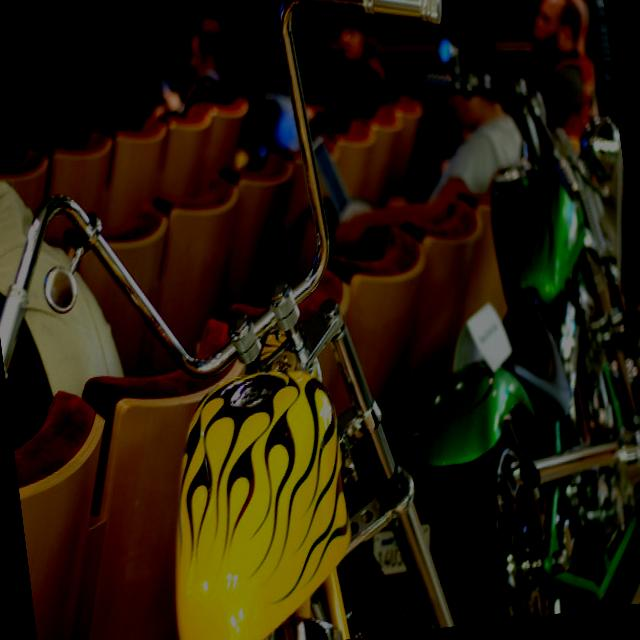Vehicle: (0, 0, 514, 640), (370, 13, 640, 625)
